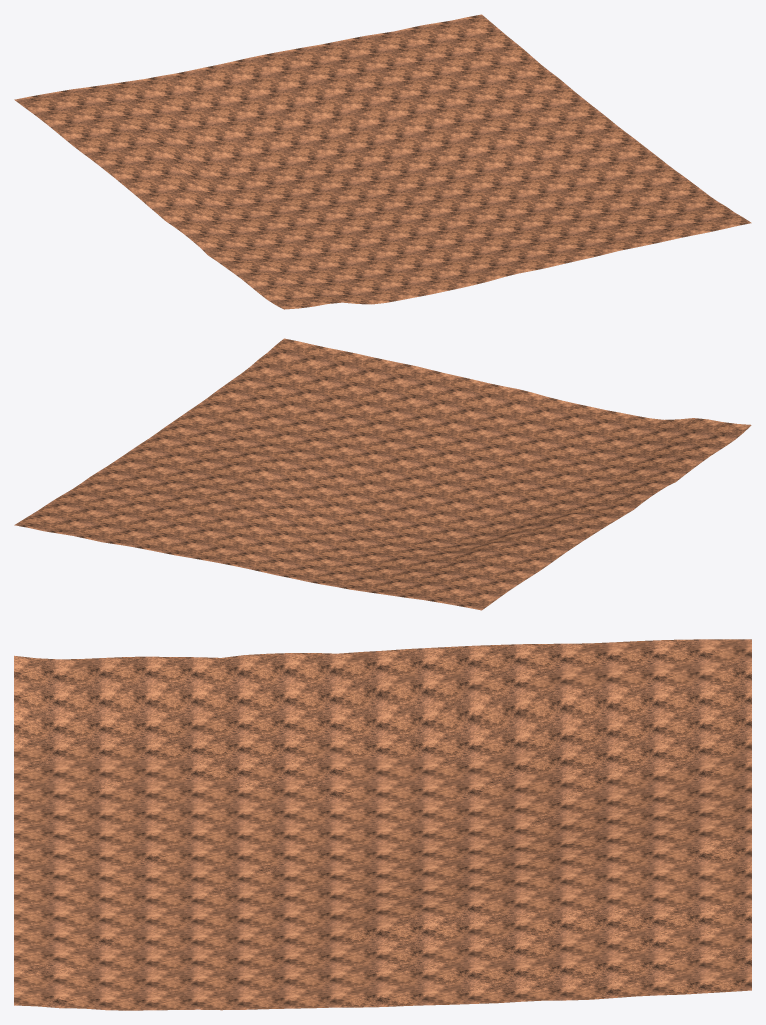
The model's file is terrain_10_14.dae.
3 renders of one model, top to bottom at view 1: azimuth 30°, elevation 25°; view 2: azimuth 150°, elevation 25°; view 3: azimuth 270°, elevation 25°, orthographic. The views are drawn at different scales.
Parts seen in each view (by area): view 1: terrain_10_14-node; view 2: terrain_10_14-node; view 3: terrain_10_14-node.
Boxes of the visible parts, left/top/right/bottom form: terrain_10_14-node: left=14, top=14, right=751, bottom=309; terrain_10_14-node: left=14, top=338, right=751, bottom=610; terrain_10_14-node: left=14, top=639, right=751, bottom=1010.
Bounding box in the file's own units: 128 × 128 × 11.41.
Materials: 1 (1 with a texture image).
